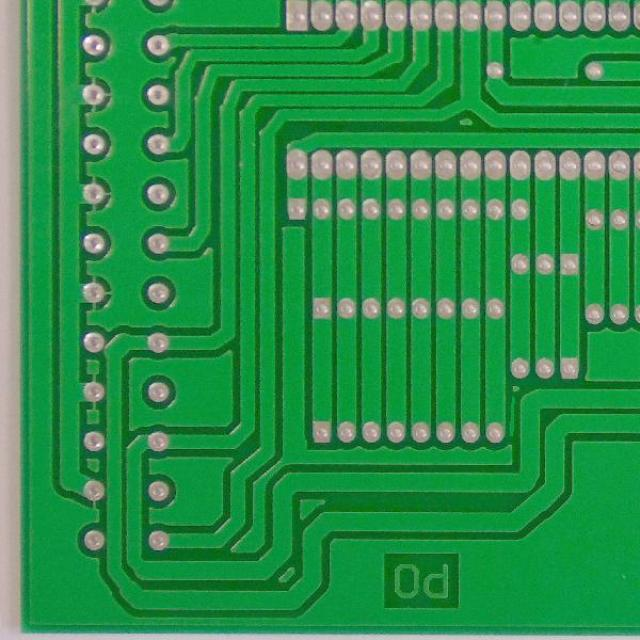Spurious_Cooper: (506, 394, 517, 438)
